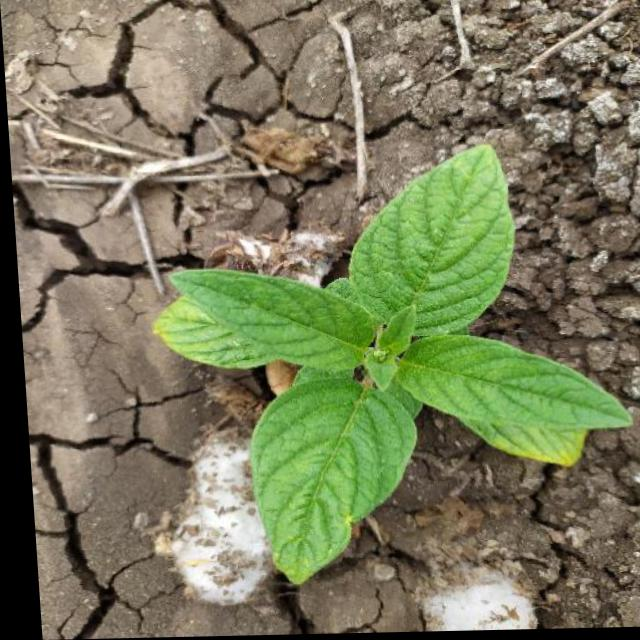crop: (128, 128, 636, 591)
